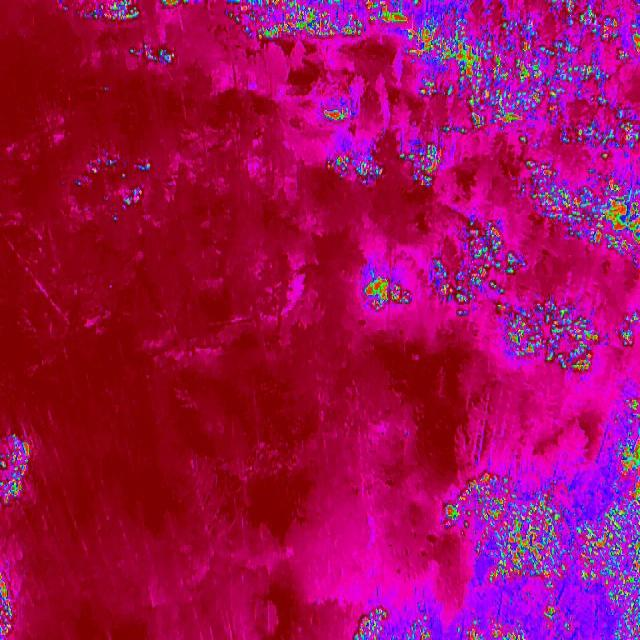fire: (451, 462, 640, 640), (403, 45, 640, 159), (221, 0, 640, 46), (521, 159, 640, 259), (429, 216, 524, 316), (501, 297, 600, 373), (80, 154, 148, 223), (353, 596, 438, 640), (0, 424, 32, 506), (404, 136, 444, 194), (610, 388, 640, 463), (329, 154, 386, 190), (364, 270, 412, 310), (68, 0, 142, 25), (128, 42, 182, 72), (0, 562, 18, 640), (321, 104, 360, 130), (620, 314, 638, 348), (162, 0, 191, 14)
